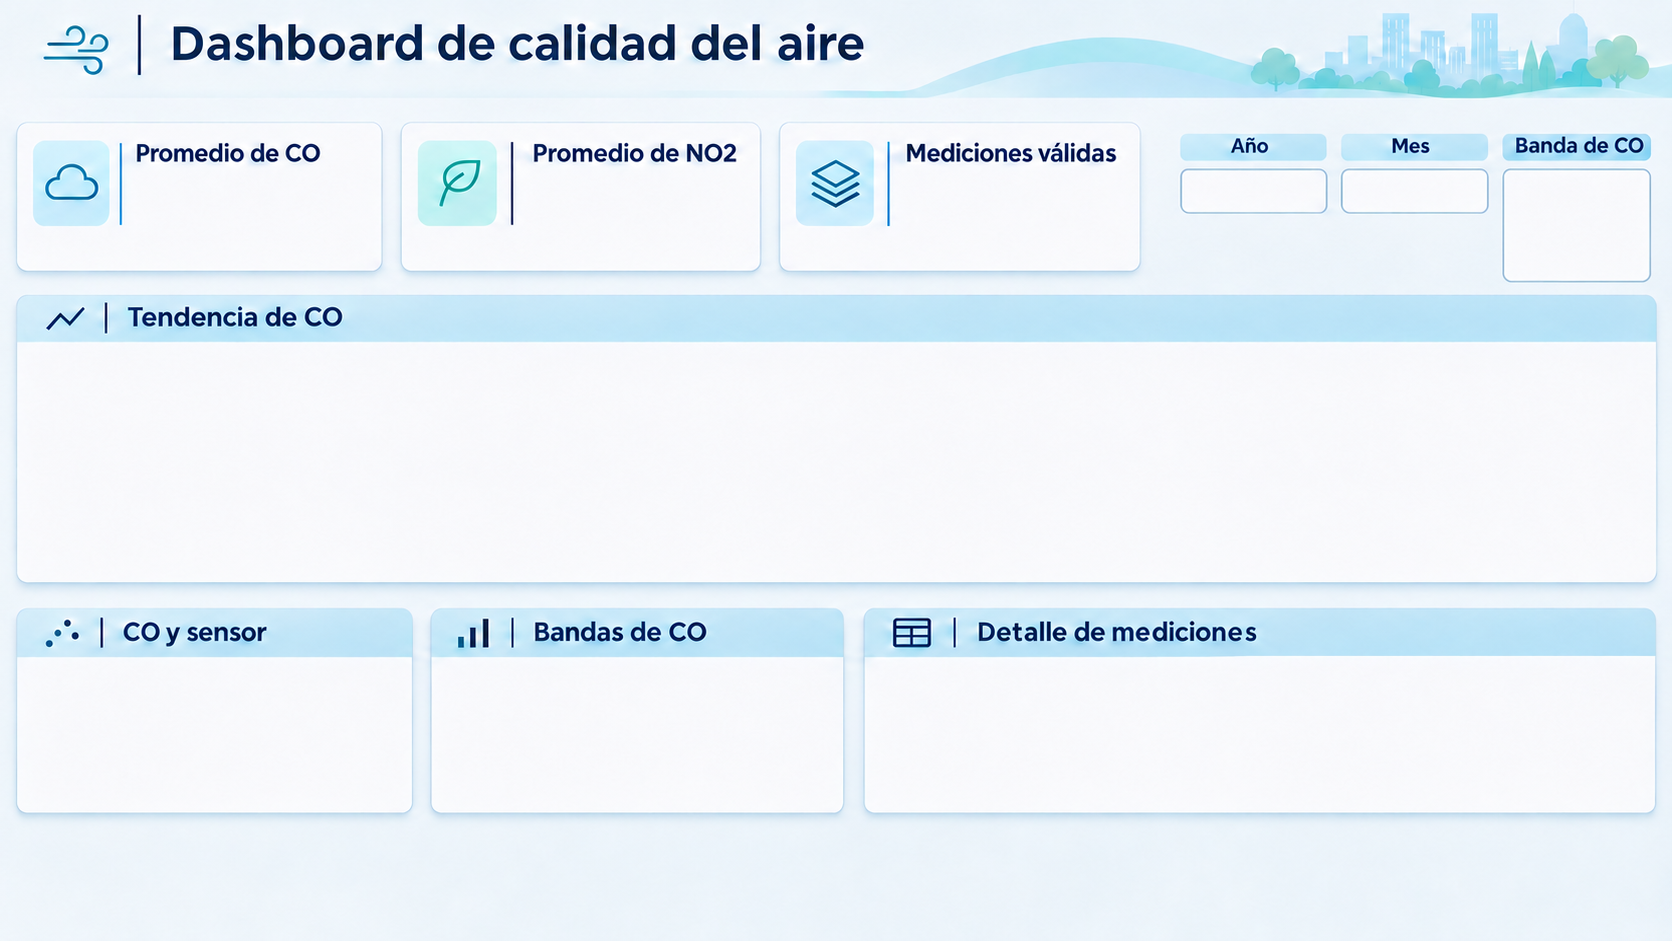

What the dashboard file says about the page in this screenshot:
{"tool":"powerbi","page":{"name":"Página 1","canvas":[1920,1080],"ordinal":0},"visuals":[{"type":"cardVisual","fields":{"Data":["Avg(hecho_calidad_aire.co_gt)"]},"box":[425.1,120.9,300,300],"z":0},{"type":"cardVisual","fields":{"Data":["Avg(hecho_calidad_aire.no2_gt)"]},"box":[74.7,120.9,300,300],"z":1000},{"type":"clusteredColumnChart","fields":{"Category":["hecho_calidad_aire.banda_co"],"Y":["CountNonNull(hecho_calidad_aire.banda_co)"]},"box":[758.7,120.9,300,300],"z":2000},{"type":"scatterChart","fields":{"Category":["hecho_calidad_aire.medicion_id"],"X":["Sum(hecho_calidad_aire.co_gt)"],"Y":["Sum(hecho_calidad_aire.pt08_s1_co)"]},"box":[1088,120,300,300],"z":3000},{"type":"slicer","fields":{"Values":["dim_tiempo.anio"]},"box":[74,432,300,300],"z":4000},{"type":"slicer","fields":{"Values":["dim_tiempo.mes"]},"box":[425,431,300,300],"z":5000},{"type":"slicer","fields":{"Values":["hecho_calidad_aire.banda_co"]},"box":[788.2,461.2,300,300],"z":6000},{"type":"textbox","box":[1398,120,300,300],"z":7000}]}

Visuals, with their boxes in screenshot pixels (x1, y1, x2, y2), scaled from the page's 1920x1080 canvas onto the 1672x941 screenshot:
cardVisual - Avg(hecho_calidad_aire.co_gt): bbox(370, 105, 631, 367)
cardVisual - Avg(hecho_calidad_aire.no2_gt): bbox(65, 105, 326, 367)
clusteredColumnChart - hecho_calidad_aire.banda_co x CountNonNull(hecho_calidad_aire.banda_co): bbox(661, 105, 922, 367)
scatterChart - hecho_calidad_aire.medicion_id x Sum(hecho_calidad_aire.co_gt): bbox(947, 105, 1209, 366)
slicer - dim_tiempo.anio: bbox(64, 376, 326, 638)
slicer - dim_tiempo.mes: bbox(370, 376, 631, 637)
slicer - hecho_calidad_aire.banda_co: bbox(686, 402, 948, 663)
textbox: bbox(1217, 105, 1479, 366)
